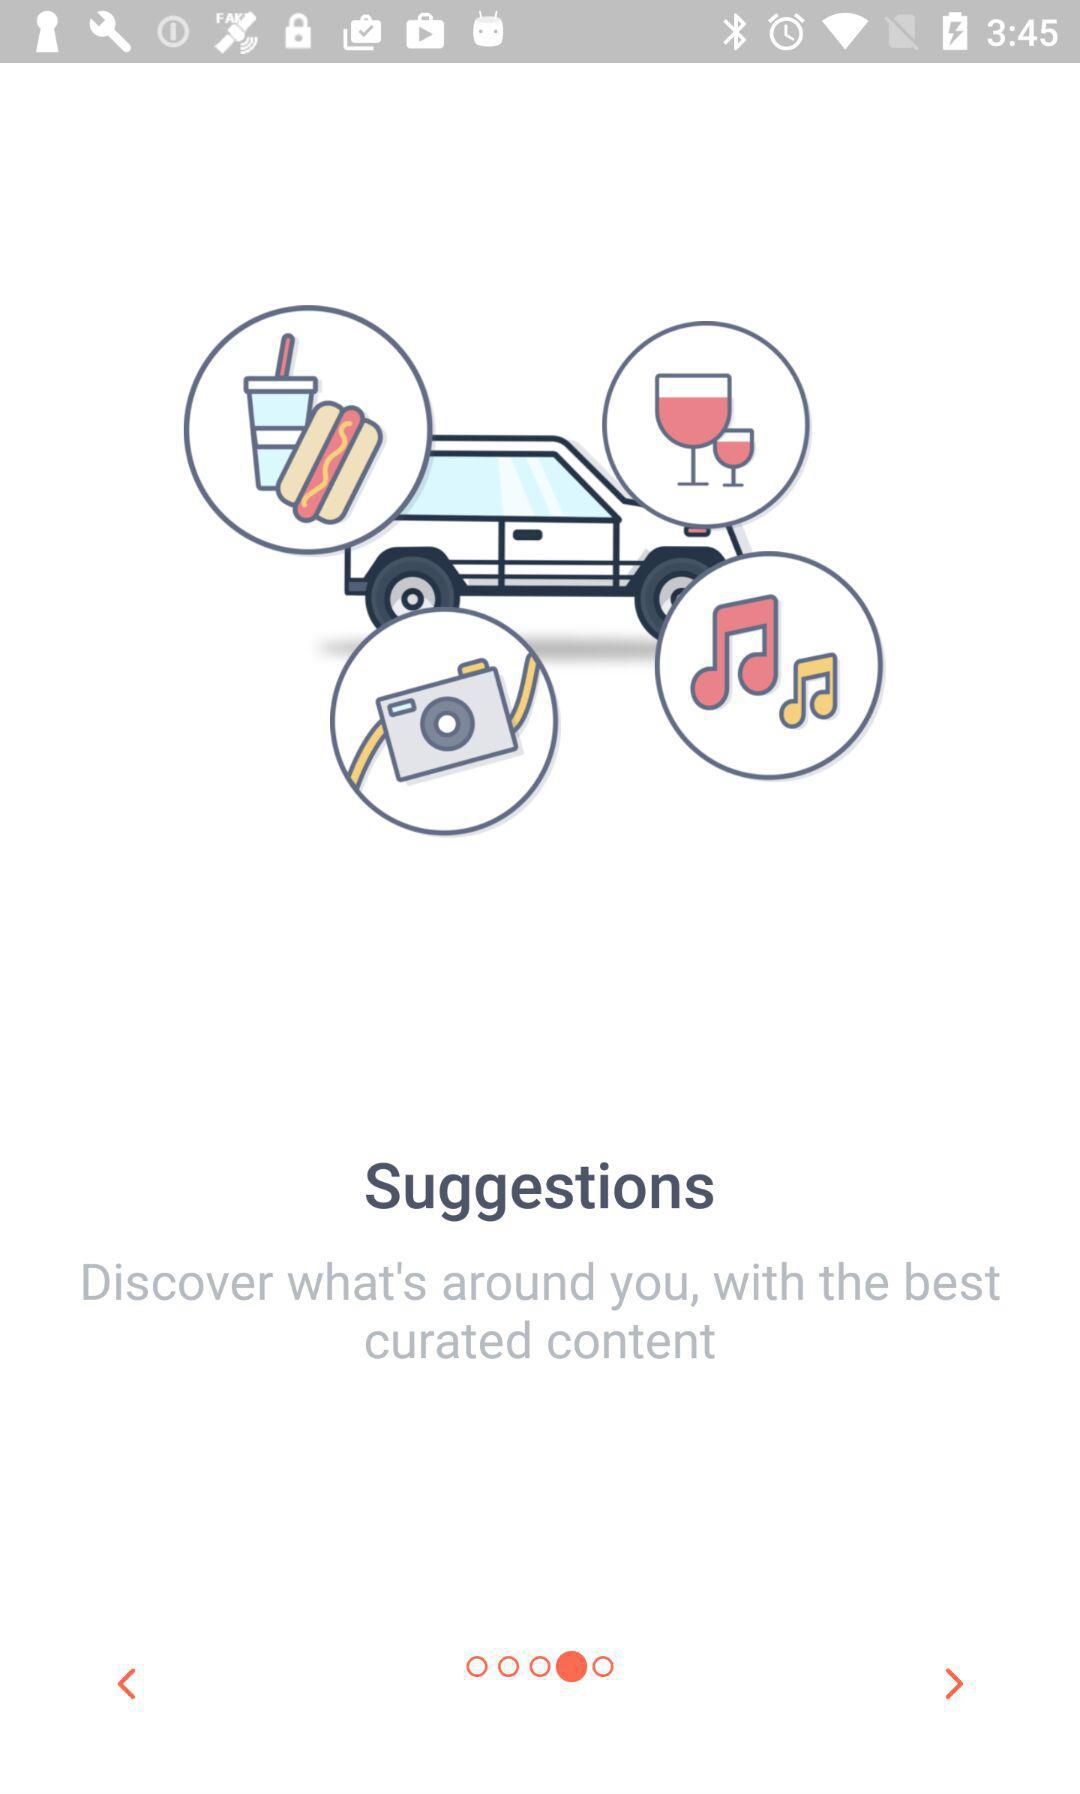Icon: (117, 1666, 140, 1702), (944, 1667, 965, 1700)
Image: (181, 302, 887, 839)
PageIndicator: (464, 1649, 618, 1684)
Text: (82, 1260, 1004, 1362), (365, 1161, 715, 1225)
UpperTaskBar: (1, 1, 1080, 64)
